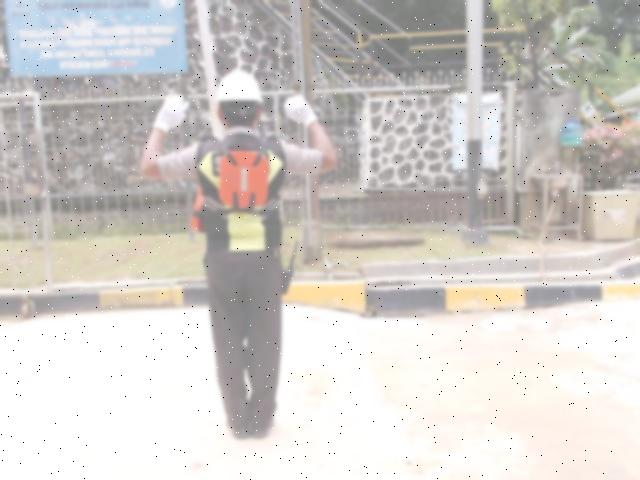gloves: (149, 90, 192, 134), (283, 91, 320, 129)
helmet: (214, 63, 266, 104)
safety-shoes: (251, 406, 278, 442), (225, 406, 252, 441)
vest: (218, 144, 272, 215)
